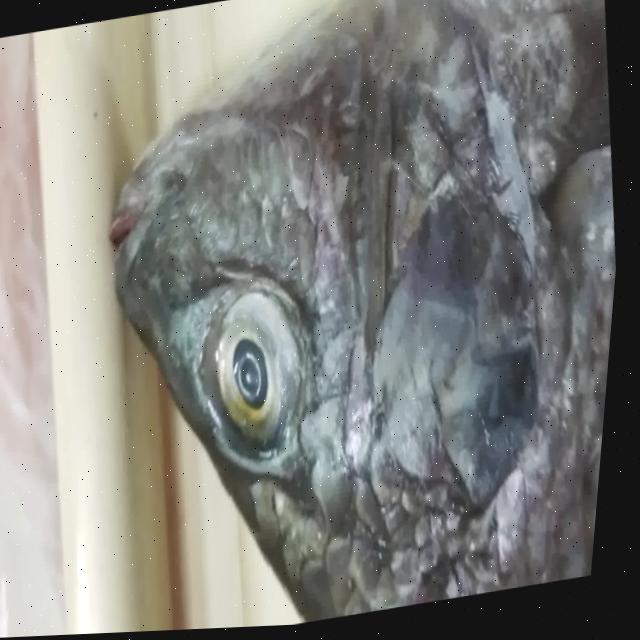Non-Fresh: (158, 229, 374, 523)
